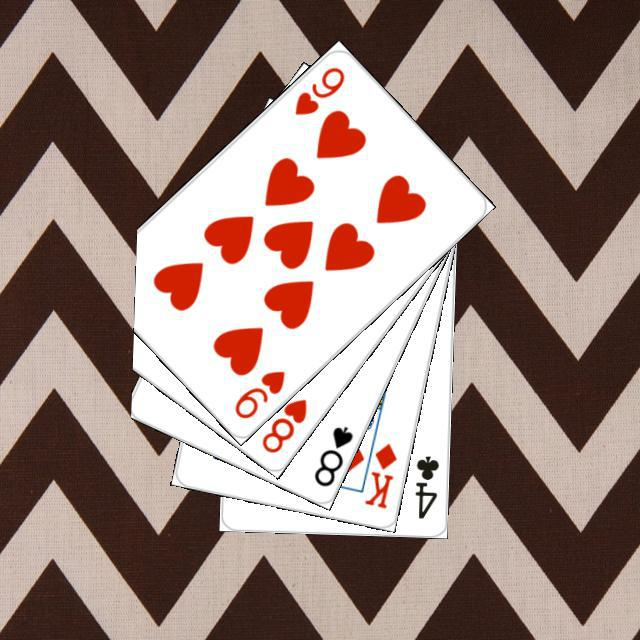4c: (410, 450, 441, 520)
8h: (256, 393, 309, 455)
8s: (309, 421, 355, 489)
9h: (229, 365, 287, 421), (289, 62, 347, 118)
Kd: (359, 438, 399, 510)
